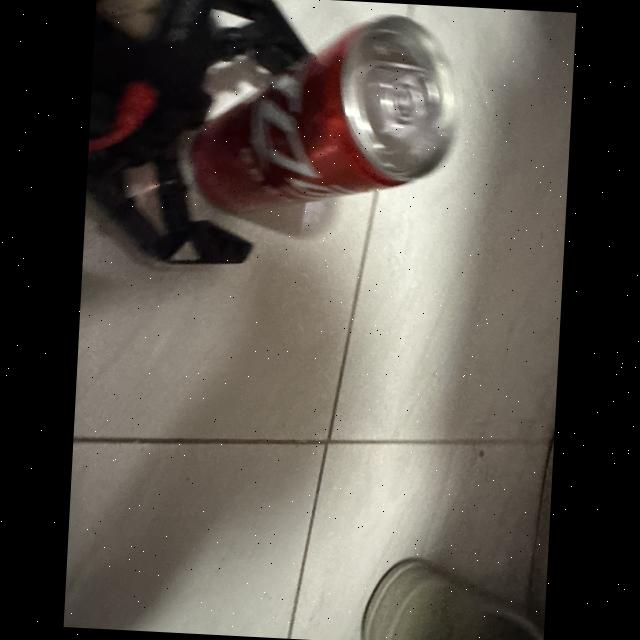Cola: (187, 0, 487, 242)
